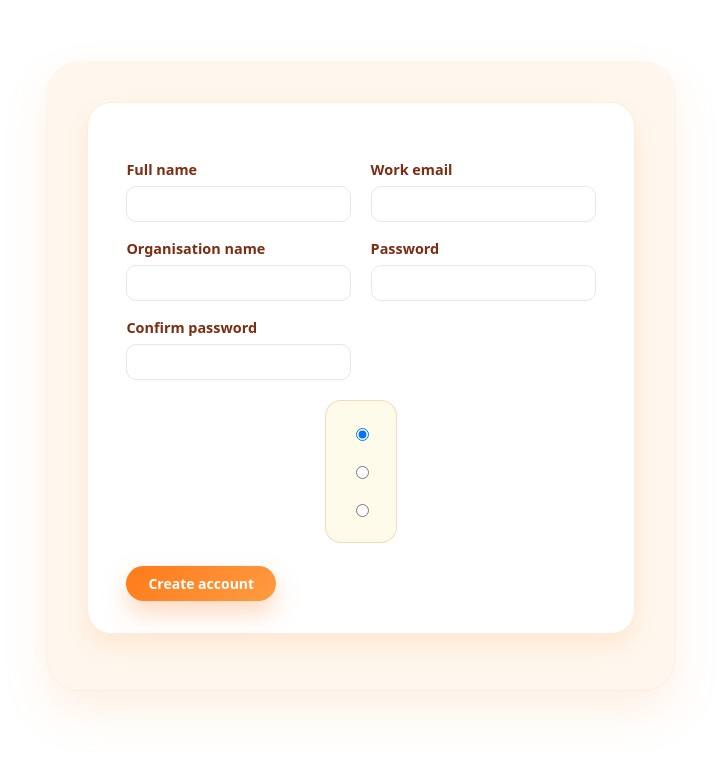
Test case: initRegister – validation & submit › EMAIL_EXISTS maps to a friendly error
In the field with id "fullName": (239, 204) [126,186,351,222], type "John Doe"
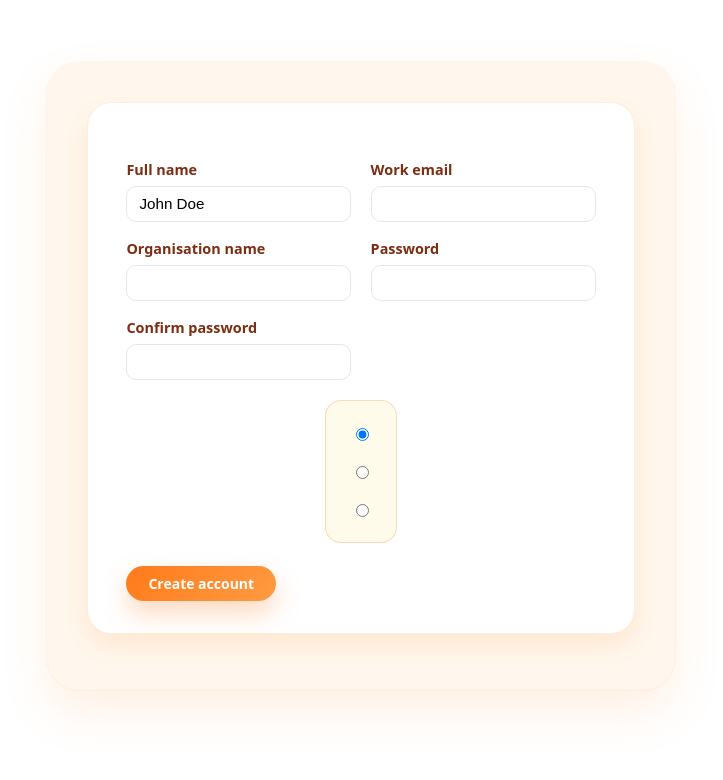
In the field with id "email": (483, 204) [371,186,596,222], type "john@example.com"
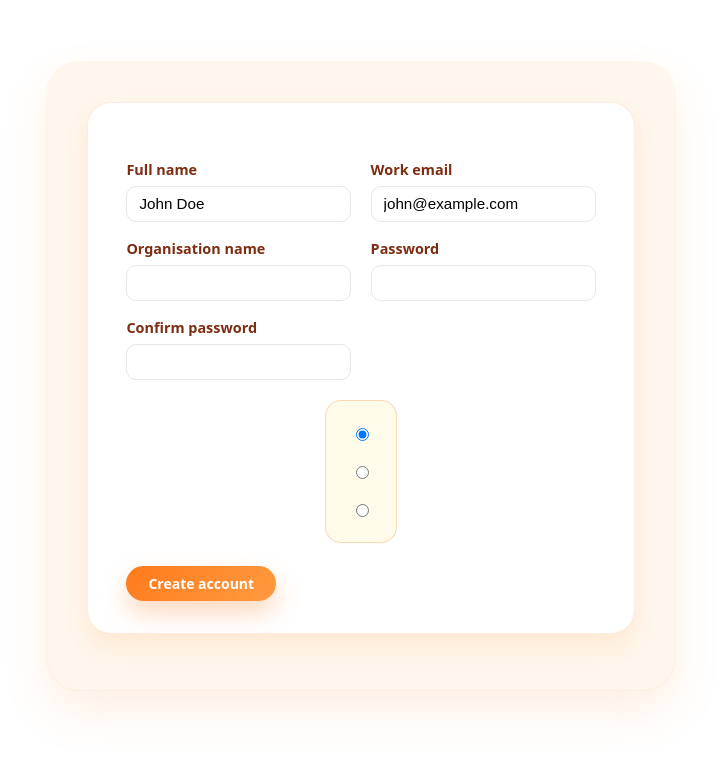
In the field with id "organisation": (239, 283) [126,264,351,301], type "ACME"
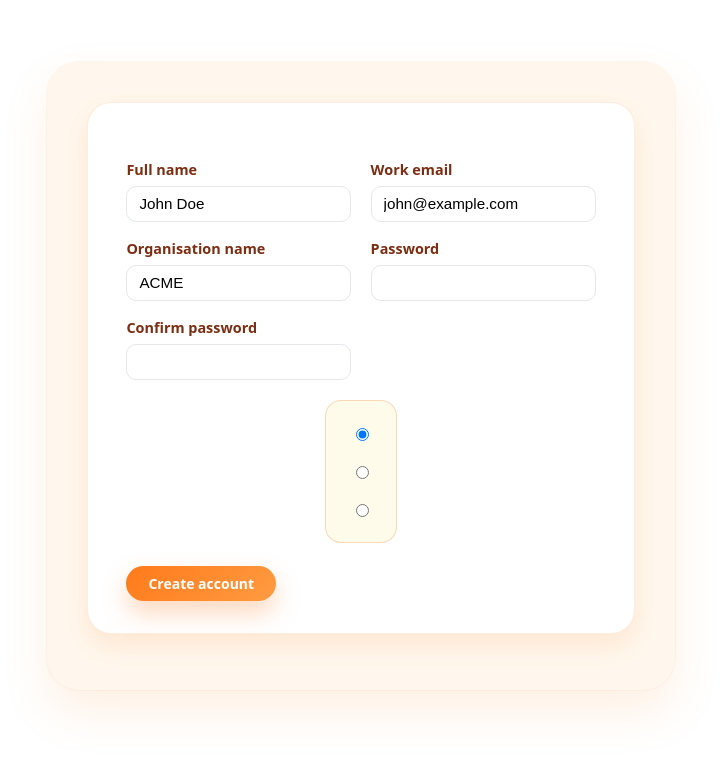
In the password field labelled "Password": (483, 283) [371,264,596,301], type "verystrong"
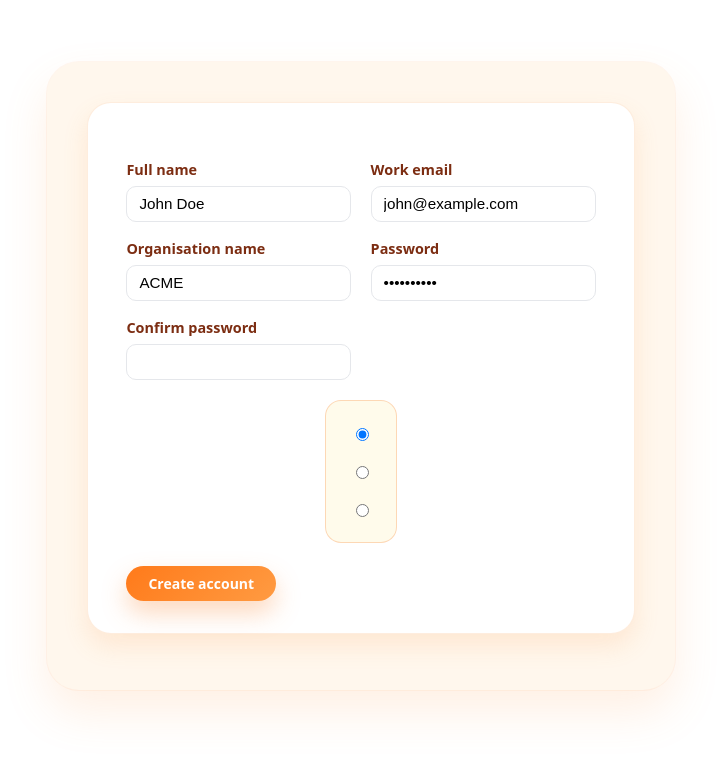
In the password field with id "confirmPassword": (239, 362) [126,344,351,380], type "verystrong"
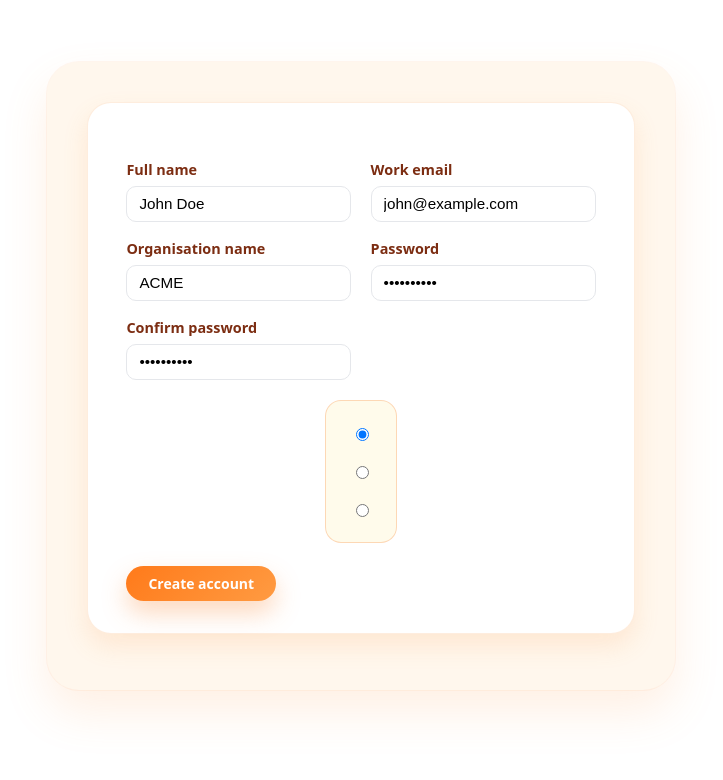
Submit the form with id "register-form", box [126,159,596,601]
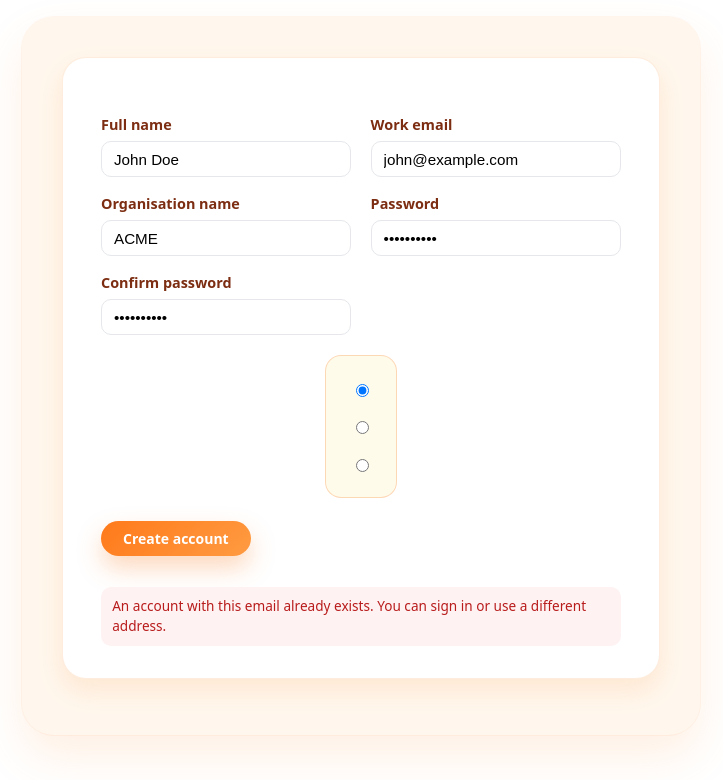
Result: the text with id "register-error" shows "An account with this email already exists. You can sign in or use a different address." at [112,596,586,636]
